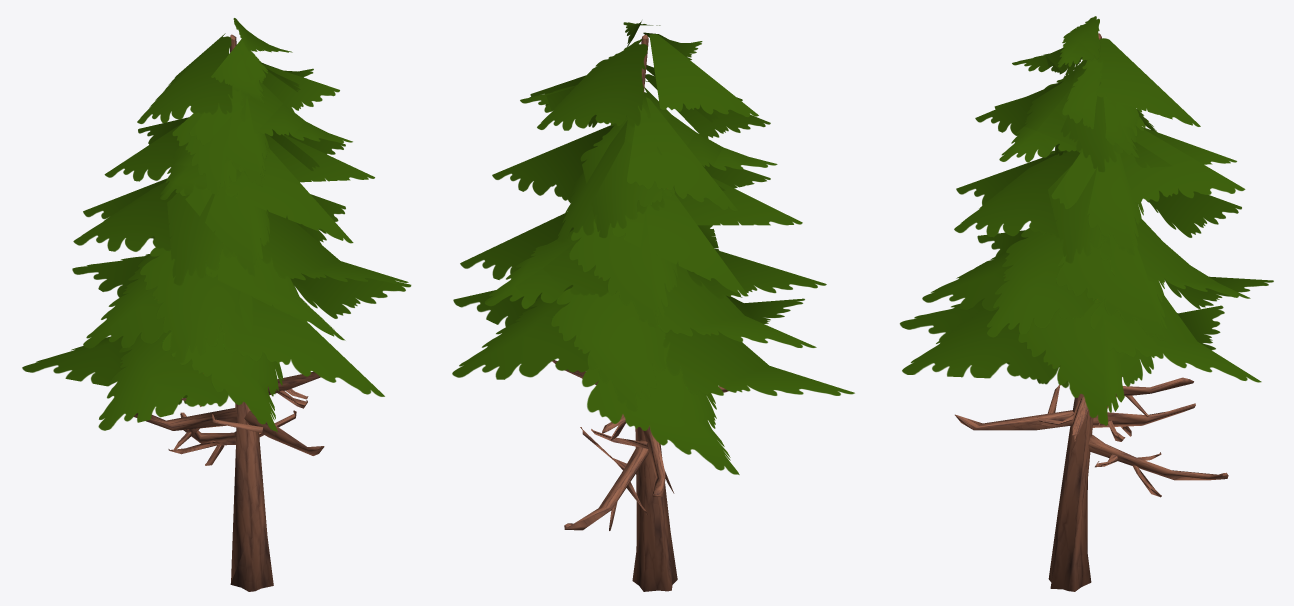
The model's file is spruce-1.glb.
3 renders of one model, left to right at view 1: azimuth 30°, elevation 25°; view 2: azimuth 150°, elevation 25°; view 3: azimuth 270°, elevation 25°, orthographic. The views are drawn at different scales.
Parts seen in each view (by area): view 1: Pine_1; view 2: Pine_1; view 3: Pine_1.
Boxes of the visible parts, left/top/right/bottom form: Pine_1: left=22, top=18, right=411, bottom=591; Pine_1: left=452, top=21, right=854, bottom=591; Pine_1: left=899, top=16, right=1273, bottom=591.
Size of the model in its own units: 4.94 by 7.32 by 4.54.
Materials: 2 (2 with a texture image).
